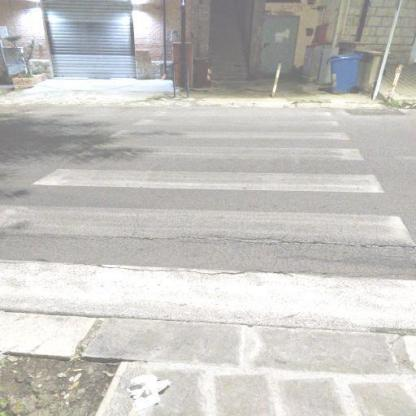crosswalk: (25, 141, 390, 202)
